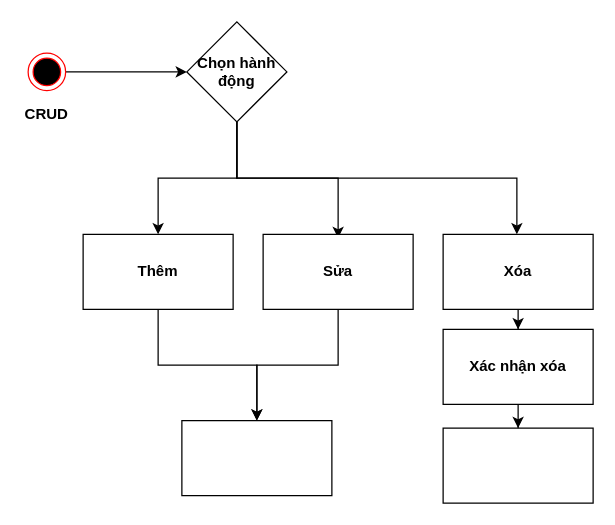
This 615x525 diagram has some shape labels left out. Each missing label, with the centre of its shape:
"giao diện chính" belongs at (x=517, y=465).
"Giao diện ghi chú" belongs at (x=256, y=457).
